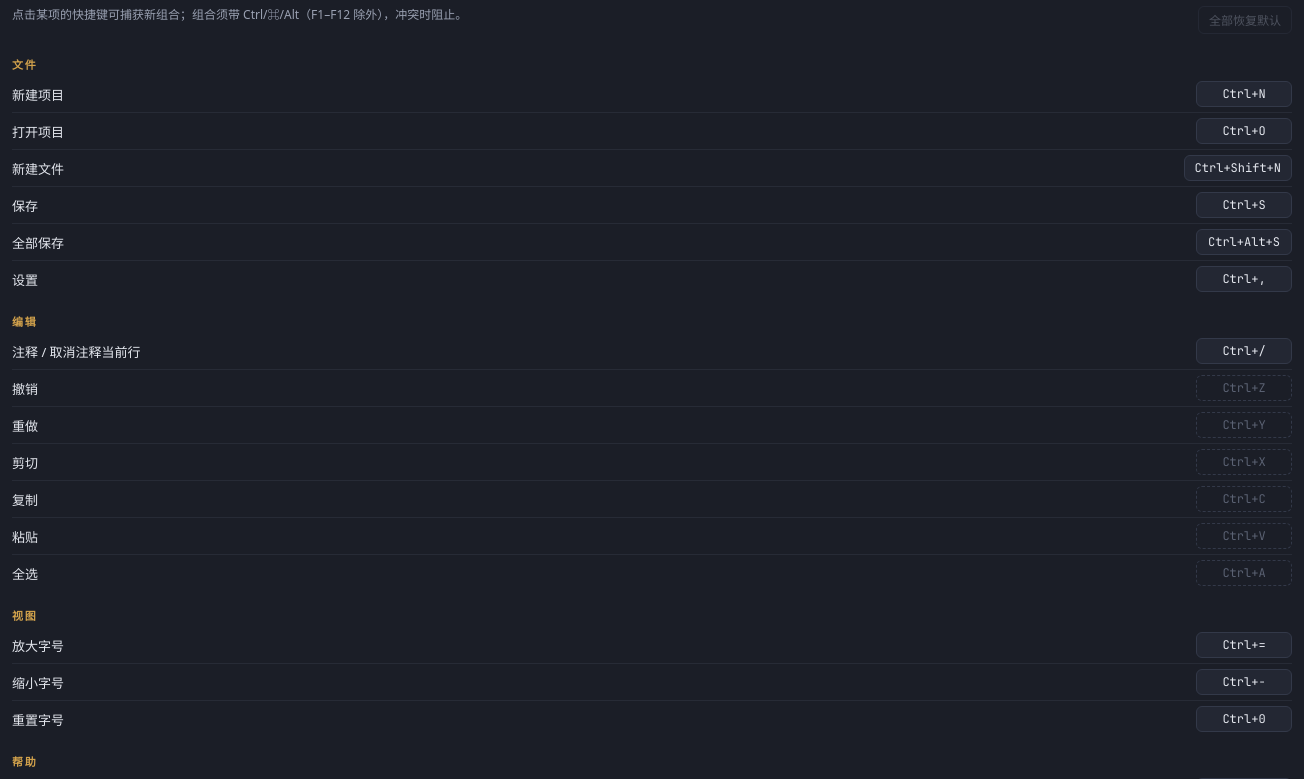
it: ShortcutsSettings › 冲突组合被阻止，报占用命令名，不落覆盖
Click the button with aria-label "修改「保存」快捷键" at (1244, 205), box 1196,192 -> 1292,218
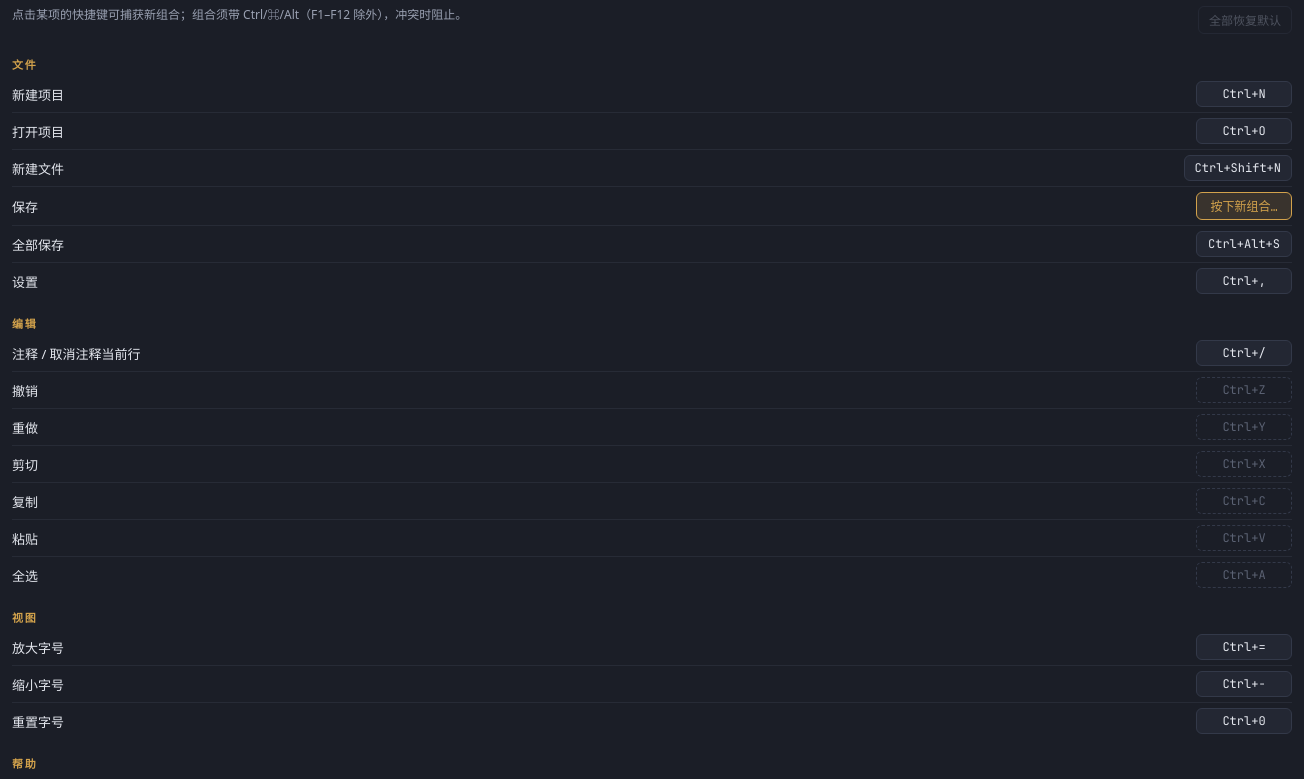
Press O in the button with aria-label "修改「保存」快捷键", box 1196,192 -> 1292,220
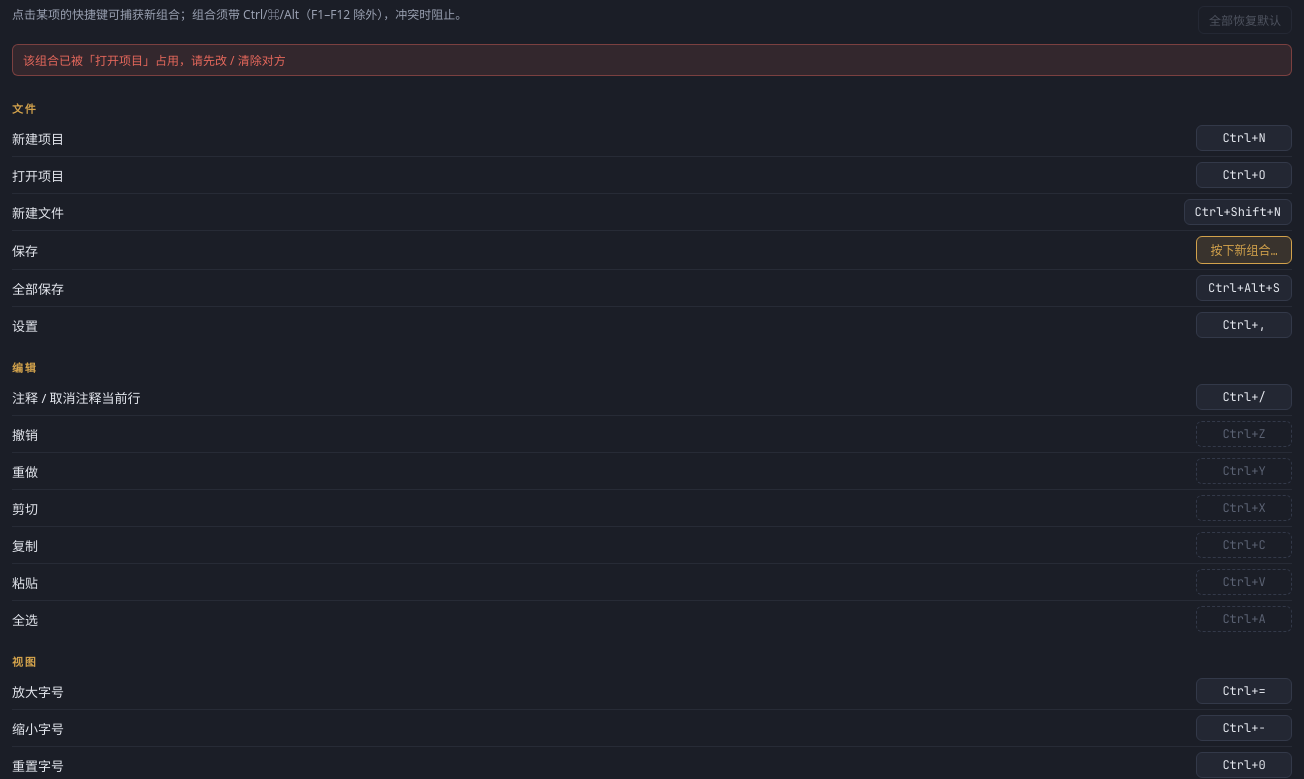
Result: the message shows "打开项目" at 23,52 -> 286,69
